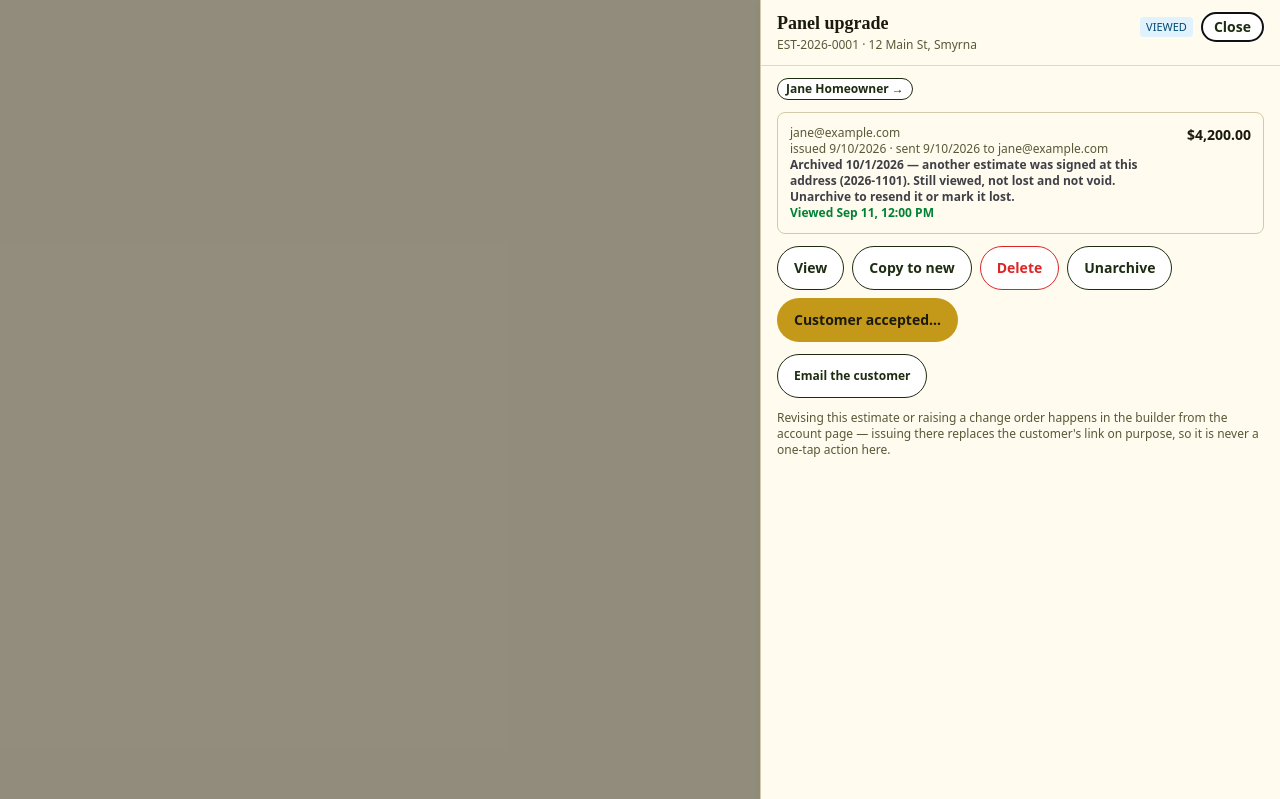
Test: EstimateDrawer › shows an archived estimate as archived with its reason, offers Unarchive, and greys the Estimate send and withholds Mark lost until then
The width and height of the screenshot is (1280, 799).
Expected: the text "Archived 10/1/2026 — another estimate was signed at this address (2026-1101). Still viewed, not lost and not void." is shown, [790,156,1175,204]
Click the button "Email the customer" at (852,376), box [777,354,928,398]
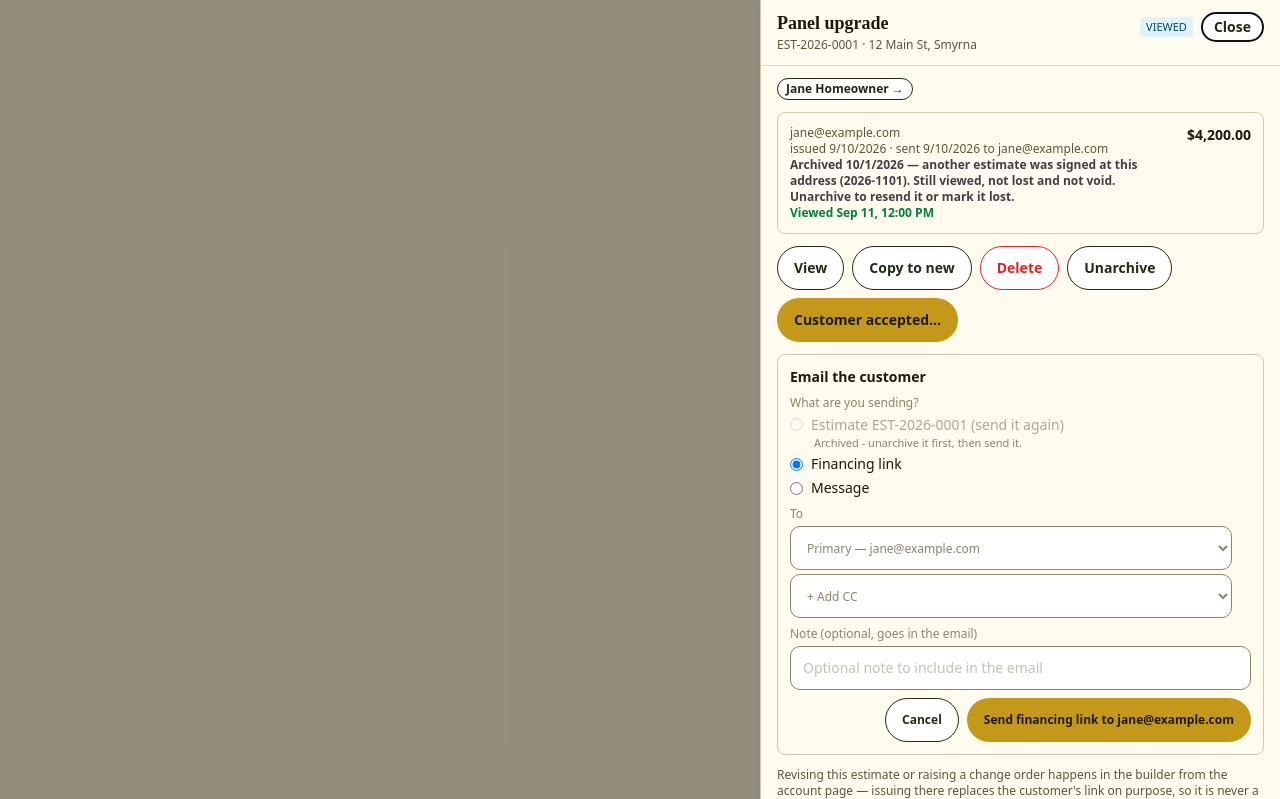
Expected: the button "Delete" is shown, [980,246,1059,290]
Expected: the radio button labelled "Estimate EST-2026-0001 (send it again)" is disabled, [790,418,803,431]
Expected: the text "Archived - unarchive it first, then send it." is shown, [814,434,1022,450]
Click the button "Unarchive" at (1120,268), box [1067,246,1172,290]
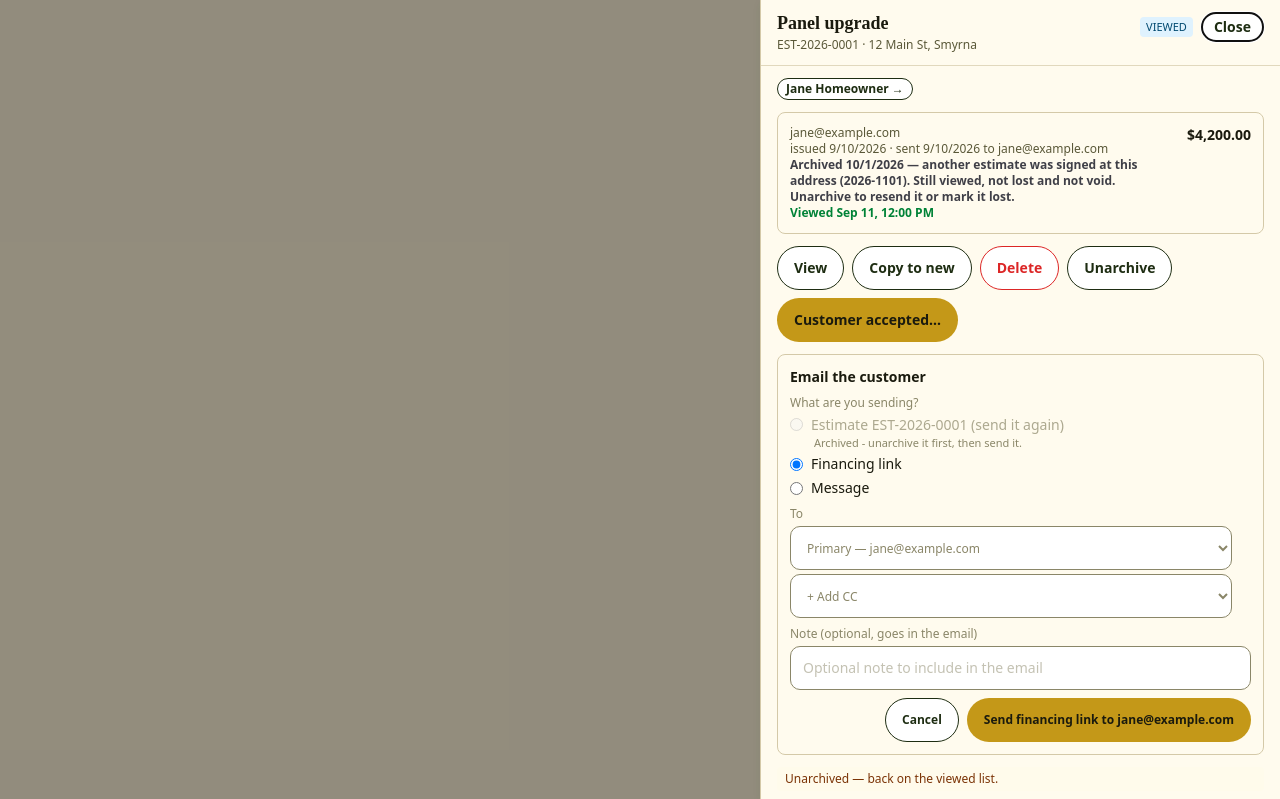
Expected: the text "Unarchived — back on the viewed list." is shown, [777,767,1264,791]
